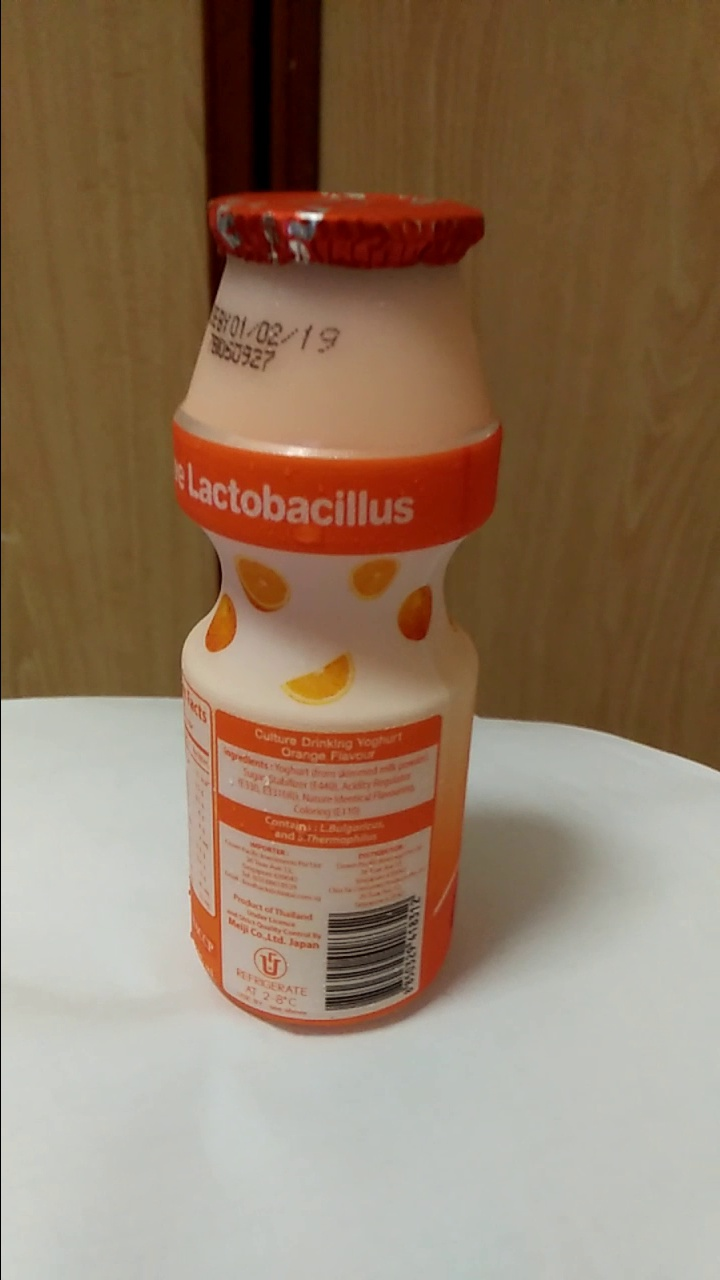milk: (196, 192, 482, 1031)
